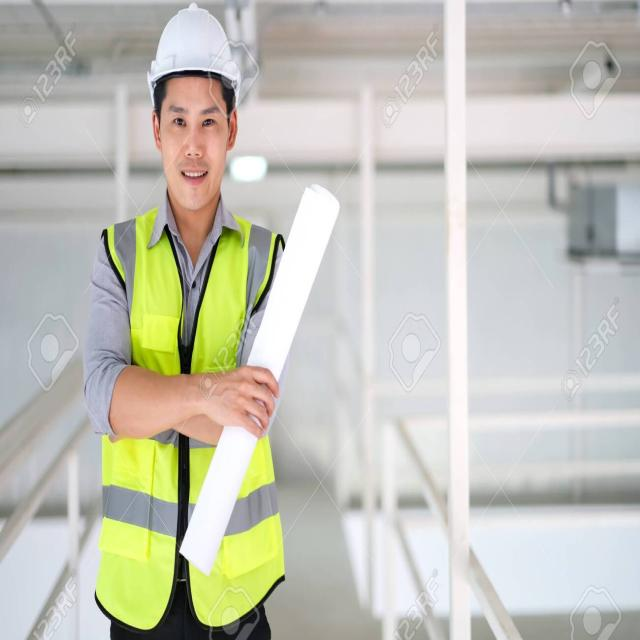helmet: (144, 0, 245, 104)
no-goggles: (162, 96, 228, 142)
vest: (92, 204, 290, 640)
